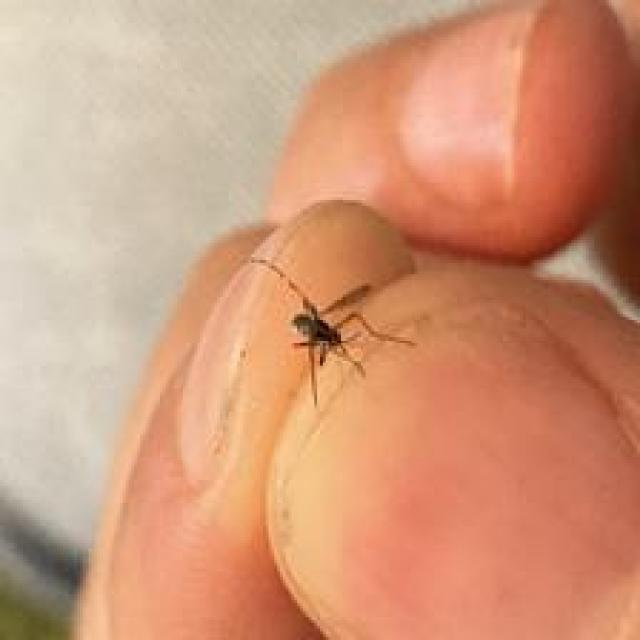Aedes albopictus: (247, 253, 416, 407)
